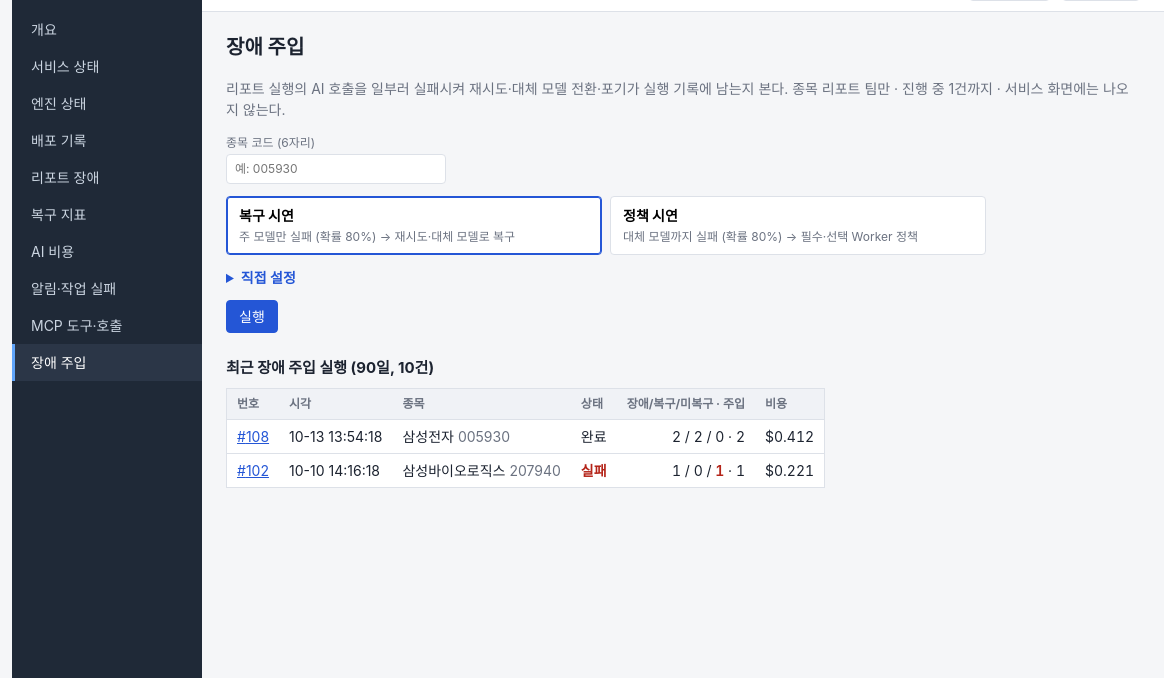
Test case: 장애 주입 (F11) › 서비스의 409 사유(detail)를 그대로 보여 준다
Type "005930" into the field labelled "종목 코드 (6자리)". click: (336, 169)
box: left=226, top=154, right=446, bottom=184
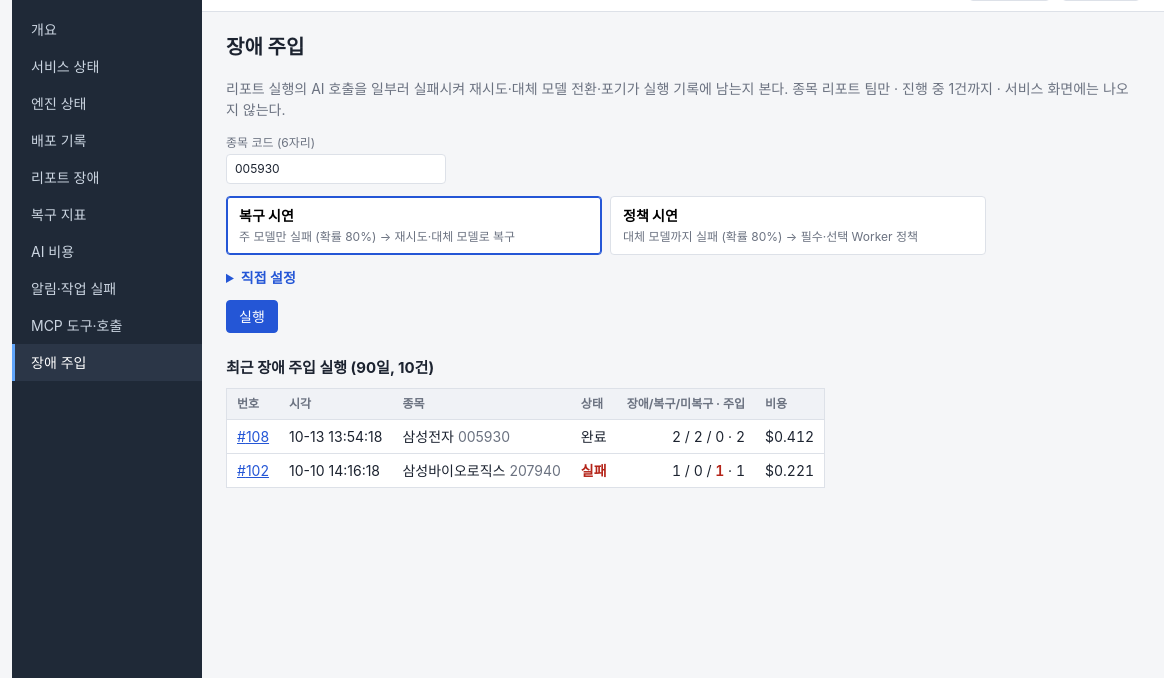
Click the button "실행". click: (252, 316)
box: left=226, top=300, right=278, bottom=333
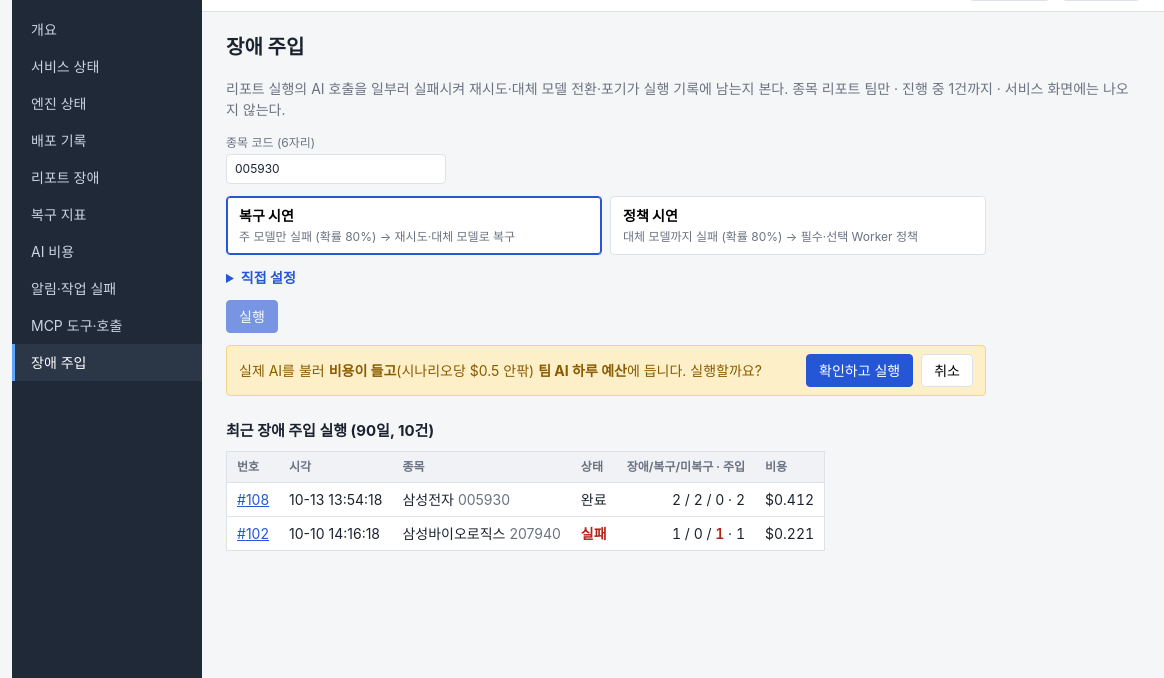
Click the button "확인하고 실행". click: (860, 370)
box: left=806, top=354, right=913, bottom=387
(page scrolled)
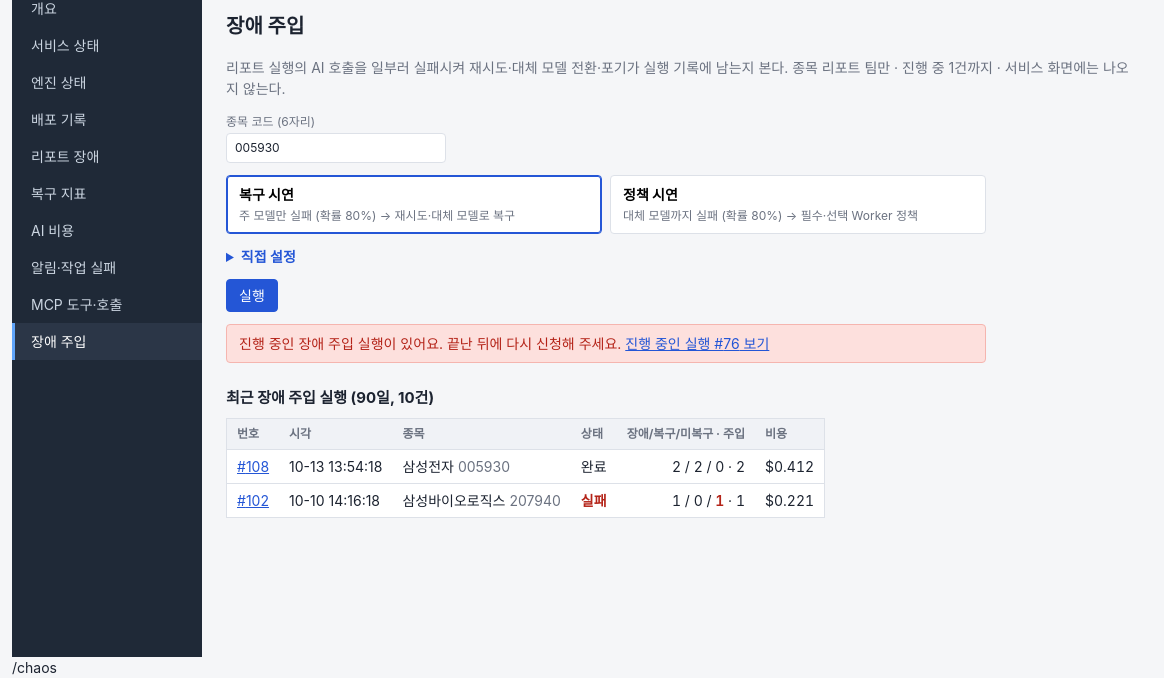
Check: the text with test id "location" reads "/chaos", box left=12, top=659, right=57, bottom=676
Check: the message shows "진행 중인 장애 주입 실행이 있어요. 끝난 뒤에 다시 신청해 주세요.", box left=239, top=335, right=621, bottom=352
